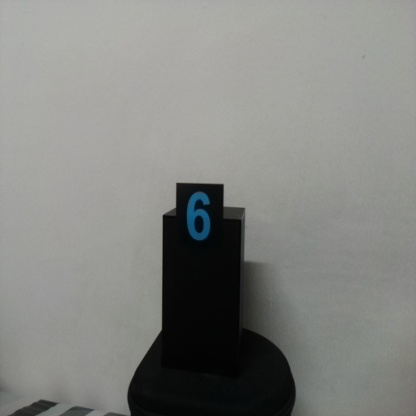id_6: (175, 182, 224, 265)
